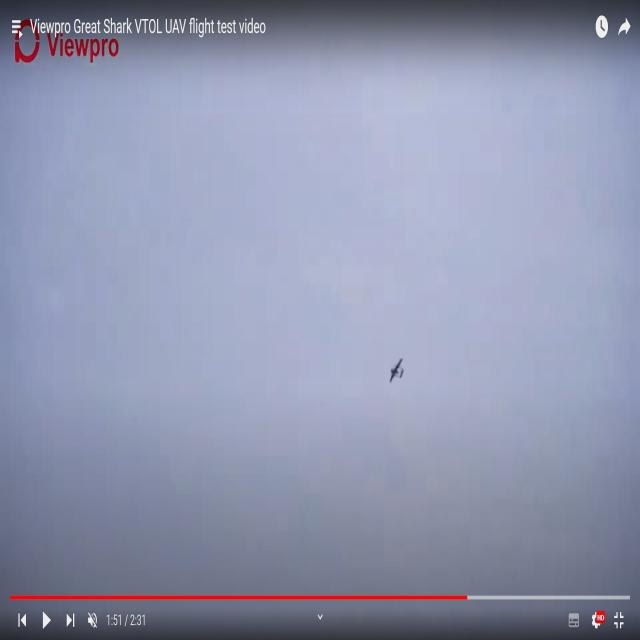iha: (382, 355, 398, 384)
